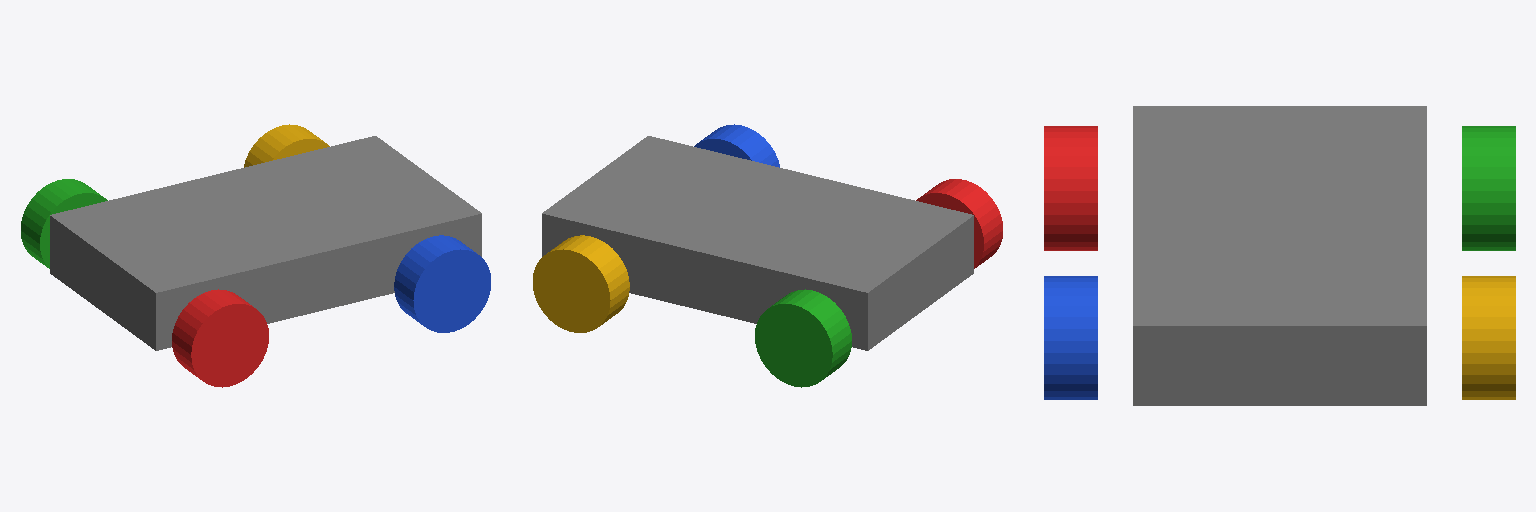
The robot description file, URDF, robot "robotcar_physics_debug":
<?xml version="1.0"?>
<robot name="robotcar_physics_debug">
  <link name="base_footprint"/>
  <link name="base_link">
    <visual><origin xyz="0.009499997 0 0.009300001"/><geometry><box size="0.310999990 0.175999999 0.052999999"/></geometry><material name="body"><color rgba="0.55 0.55 0.55 0.55"/></material></visual>
  </link>
  <joint name="base_footprint_joint" type="fixed"><parent link="base_footprint"/><child link="base_link"/><origin xyz="0 0 0.037230282"/></joint>
  <link name="front_left_wheel_link"><visual><origin rpy="1.5707963267948966 0 0"/><geometry><cylinder radius="0.037230282" length="0.032000005"/></geometry><material name="front_left"><color rgba="0.9 0.7 0.1 1"/></material></visual></link>
  <joint name="front_left_wheel_joint" type="continuous"><parent link="base_link"/><child link="front_left_wheel_link"/><origin xyz="0.106000002 0.125000000 0"/><axis xyz="0 1 0"/></joint>
  <link name="front_right_wheel_link"><visual><origin rpy="1.5707963267948966 0 0"/><geometry><cylinder radius="0.037230282" length="0.032000005"/></geometry><material name="front_right"><color rgba="0.2 0.4 0.9 1"/></material></visual></link>
  <joint name="front_right_wheel_joint" type="continuous"><parent link="base_link"/><child link="front_right_wheel_link"/><origin xyz="0.106000002 -0.125000000 0"/><axis xyz="0 1 0"/></joint>
  <link name="rear_left_wheel_link"><visual><origin rpy="1.5707963267948966 0 0"/><geometry><cylinder radius="0.037230282" length="0.032000005"/></geometry><material name="rear_left"><color rgba="0.2 0.7 0.2 1"/></material></visual></link>
  <joint name="rear_left_wheel_joint" type="continuous"><parent link="base_link"/><child link="rear_left_wheel_link"/><origin xyz="-0.106000002 0.125000000 0"/><axis xyz="0 1 0"/></joint>
  <link name="rear_right_wheel_link"><visual><origin rpy="1.5707963267948966 0 0"/><geometry><cylinder radius="0.037230282" length="0.032000005"/></geometry><material name="rear_right"><color rgba="0.9 0.2 0.2 1"/></material></visual></link>
  <joint name="rear_right_wheel_joint" type="continuous"><parent link="base_link"/><child link="rear_right_wheel_link"/><origin xyz="-0.106000002 -0.125000000 0"/><axis xyz="0 1 0"/></joint>
</robot>

--- Render facts (derived) ---
3 views of the same robot in one strip: view 1: azimuth 30°, elevation 25°; view 2: azimuth 150°, elevation 25°; view 3: azimuth 270°, elevation 25° (orthographic).
Model robotcar_physics_debug with 6 links and 5 joints (4 continuous, 1 fixed), rooted at base_footprint, posed all joints at 0.
Links seen in each view (by area): view 1: base_link, rear_right_wheel_link, front_right_wheel_link, rear_left_wheel_link, front_left_wheel_link; view 2: base_link, rear_left_wheel_link, front_left_wheel_link, rear_right_wheel_link, front_right_wheel_link; view 3: base_link, rear_left_wheel_link, rear_right_wheel_link, front_left_wheel_link, front_right_wheel_link.
Boxes of the visible links, x1,y1,x2,y2 form: base_link: (50, 136, 481, 350); rear_right_wheel_link: (172, 289, 268, 387); front_right_wheel_link: (394, 235, 490, 332); rear_left_wheel_link: (21, 179, 107, 268); front_left_wheel_link: (244, 124, 329, 167); base_link: (542, 136, 973, 350); rear_left_wheel_link: (755, 289, 851, 387); front_left_wheel_link: (533, 235, 629, 332); rear_right_wheel_link: (916, 179, 1002, 268); front_right_wheel_link: (694, 124, 779, 167); base_link: (1133, 106, 1426, 405); rear_left_wheel_link: (1462, 126, 1515, 250); rear_right_wheel_link: (1044, 126, 1097, 250); front_left_wheel_link: (1462, 276, 1515, 399); front_right_wheel_link: (1044, 276, 1097, 399).
Bounding box of the posed robot: 0.311 × 0.282 × 0.0745 m (x, y, z).
Geometry: primitives only (box / cylinder / sphere), no mesh files.
